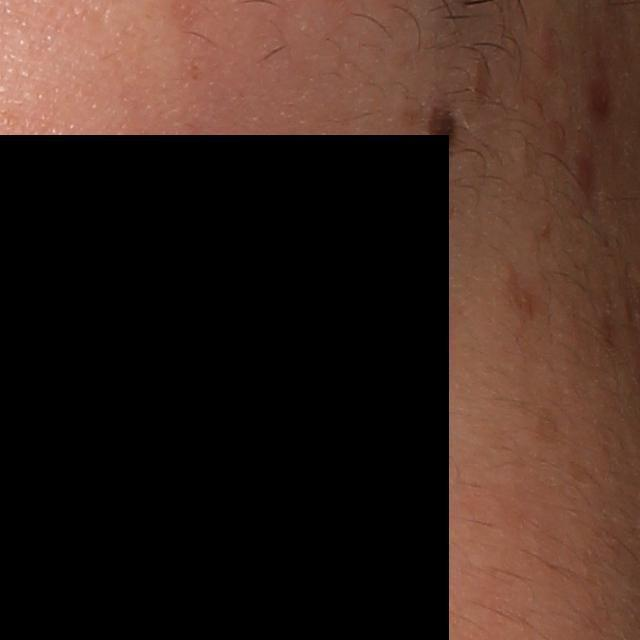nevus: (423, 104, 463, 159)
